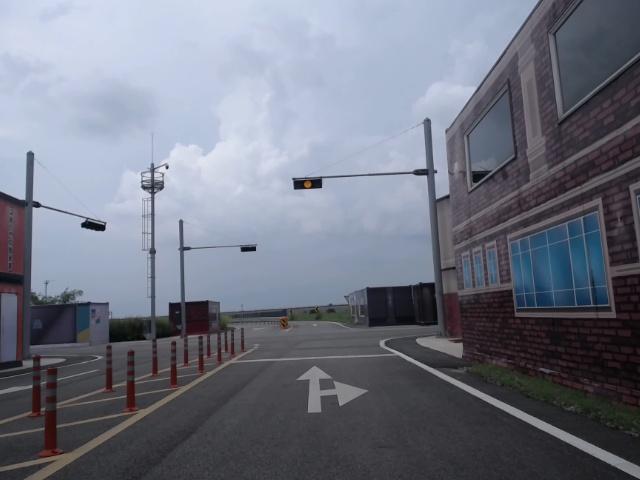orange_3: (294, 178, 322, 190)
